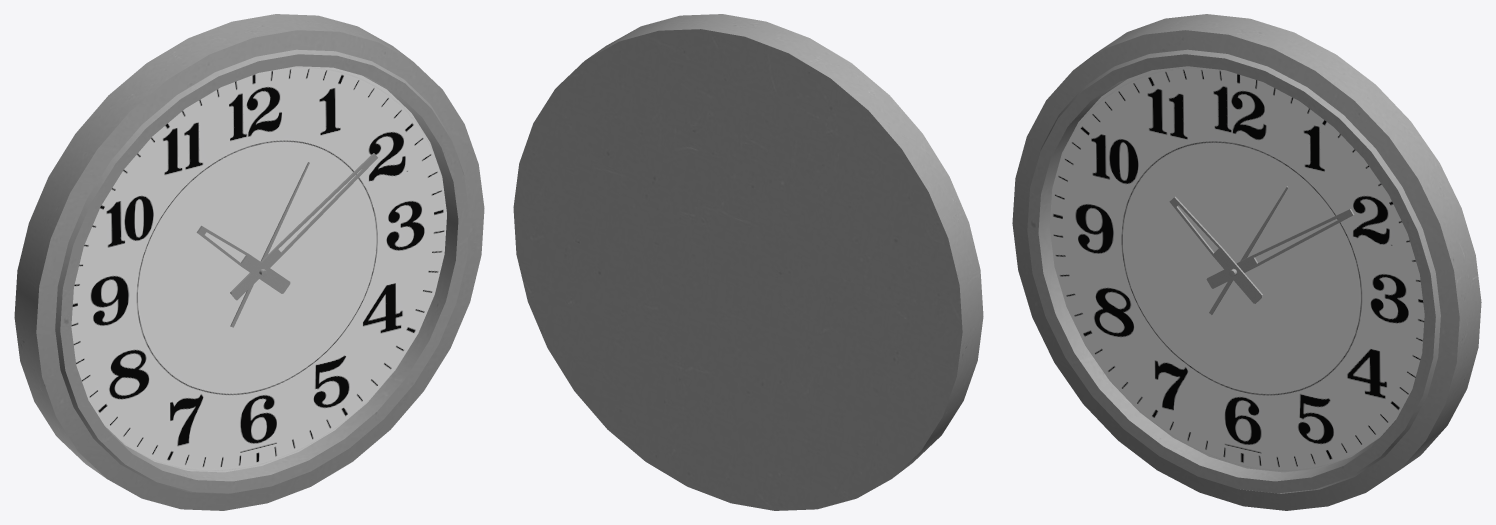
Rendered from stage4_clock.fbx.
3 renders of one model, left to right at view 1: azimuth 30°, elevation 25°; view 2: azimuth 150°, elevation 25°; view 3: azimuth 330°, elevation 25°, orthographic.
Visible parts, largest first — view 1: stage4_clock; view 2: stage4_clock; view 3: stage4_clock.
Boxes of the visible parts, x1=… form: stage4_clock: x1=14, y1=14, x2=484, y2=510; stage4_clock: x1=513, y1=14, x2=983, y2=510; stage4_clock: x1=1012, y1=14, x2=1481, y2=510.
Bounding box in the file's own units: 37.75 × 37.75 × 3.77.
